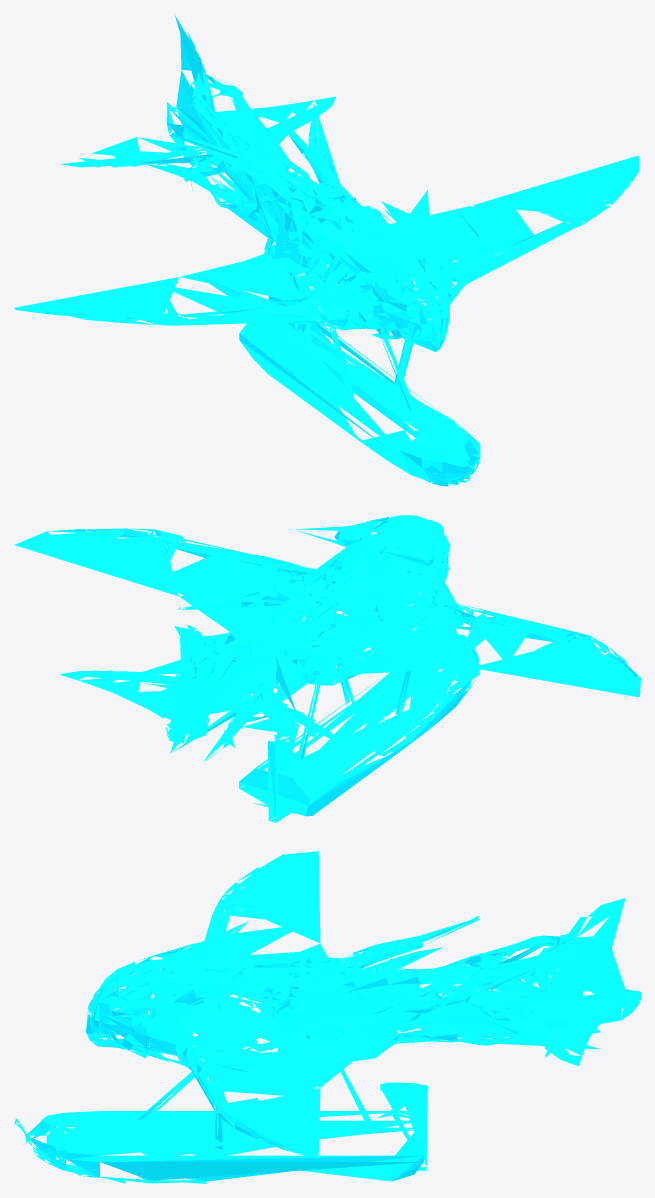
File: PXAF005.glb
3 views of the same model, one above another, from view 1: azimuth 30°, elevation 25°; view 2: azimuth 150°, elevation 25°; view 3: azimuth 270°, elevation 25° (orthographic).
Parts seen in each view (by area): view 1: misc; view 2: misc; view 3: misc.
Part boxes in pixels (x1,y1,x2,y2): misc: [14, 15, 639, 486]; misc: [14, 515, 640, 822]; misc: [14, 851, 640, 1183].
Size of the model in its own units: 0.7552 by 0.3253 by 0.6484.
